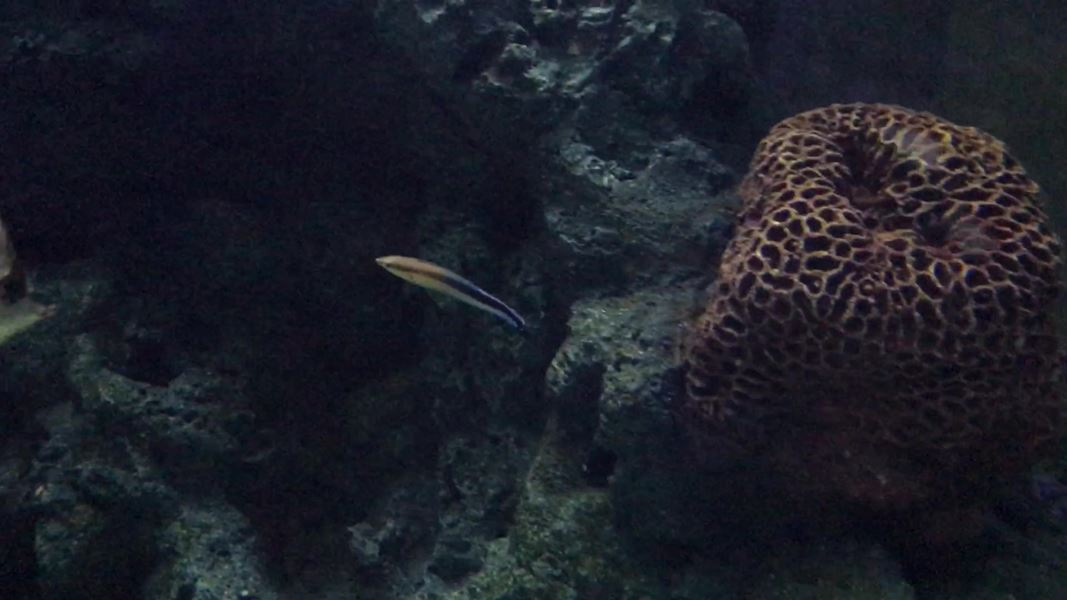Bluesteak cleaner wrasse: (368, 247, 529, 340)
